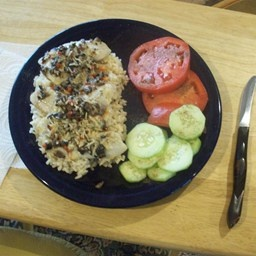background: (11, 14, 83, 73)
